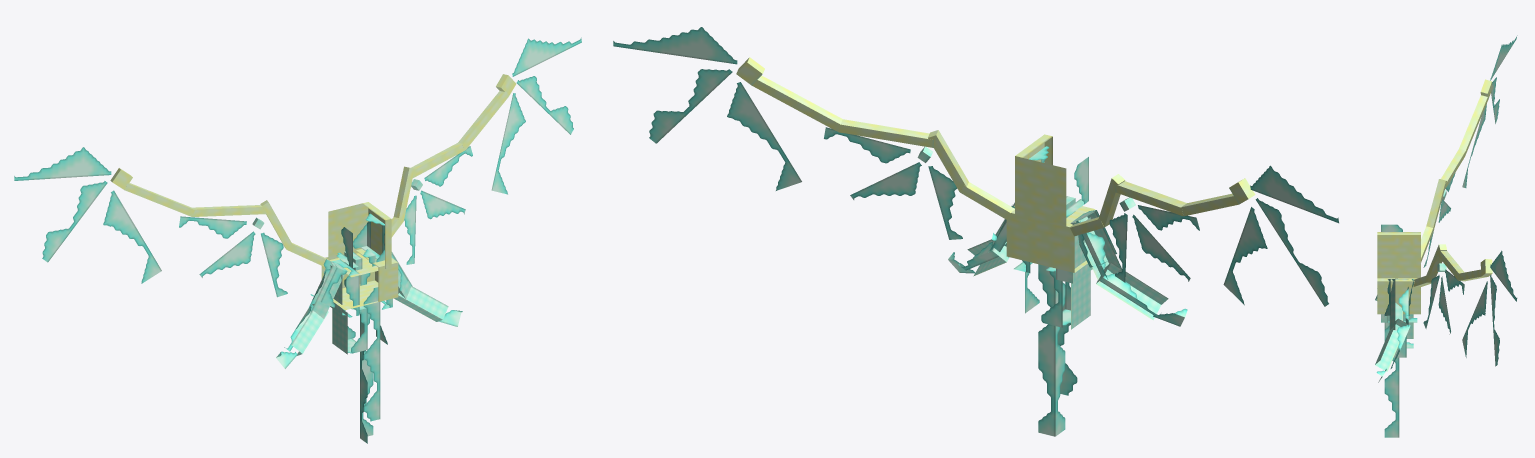
File: sylph.obj
The picture shows the model from 3 angles, left to right: view 1: azimuth 30°, elevation 25°; view 2: azimuth 150°, elevation 25°; view 3: azimuth 270°, elevation 25°; orthographic projection. The views are drawn at different scales.
Visible parts, largest first — view 1: WingRight02, WingRight03, HoodCollar, WingLeft02, Body, WingLeft03, HoodHead, ArmRight, Head, ArmLeft, WingRight01, WingLeft01; view 2: WingLeft02, Body, WingLeft03, WingRight02, HoodCollar, HoodHead, WingRight03, ArmRight, WingLeft01, ArmLeft, WingRight01, Head; view 3: HoodHead, WingLeft02, ArmLeft, Body, WingRight02, WingLeft03, HoodCollar, WingRight03, WingRight01, WingLeft01.
Part boxes in pixels (x1,y1,x2,y2): WingRight02: [110, 168, 287, 297]; WingRight03: [14, 147, 161, 283]; HoodCollar: [310, 249, 408, 421]; WingLeft02: [404, 74, 516, 264]; Body: [330, 259, 392, 443]; WingLeft03: [491, 37, 581, 194]; HoodHead: [328, 202, 391, 277]; ArmRight: [284, 261, 344, 355]; Head: [336, 213, 384, 270]; ArmLeft: [391, 252, 448, 321]; WingRight01: [252, 200, 328, 266]; WingLeft01: [391, 166, 422, 237]; WingLeft02: [736, 57, 962, 239]; Body: [1014, 217, 1092, 436]; WingLeft03: [613, 27, 801, 190]; WingRight02: [1109, 178, 1255, 282]; HoodCollar: [991, 205, 1116, 395]; HoodHead: [1015, 134, 1095, 226]; WingRight03: [1223, 165, 1338, 306]; ArmRight: [1073, 211, 1168, 320]; WingLeft01: [917, 130, 1014, 219]; ArmLeft: [958, 202, 1014, 276]; WingRight01: [1070, 174, 1135, 236]; Head: [1029, 146, 1088, 217]; HoodHead: [1377, 232, 1420, 278]; WingLeft02: [1423, 250, 1492, 334]; ArmLeft: [1375, 278, 1410, 371]; Body: [1381, 314, 1417, 437]; WingRight02: [1423, 79, 1492, 267]; WingLeft03: [1462, 250, 1517, 366]; HoodCollar: [1377, 278, 1420, 316]; WingRight03: [1462, 35, 1517, 187]; WingRight01: [1421, 179, 1446, 262]; WingLeft01: [1413, 244, 1446, 286].
Size of the model in its own units: 5.32 by 2.77 by 1.28.
